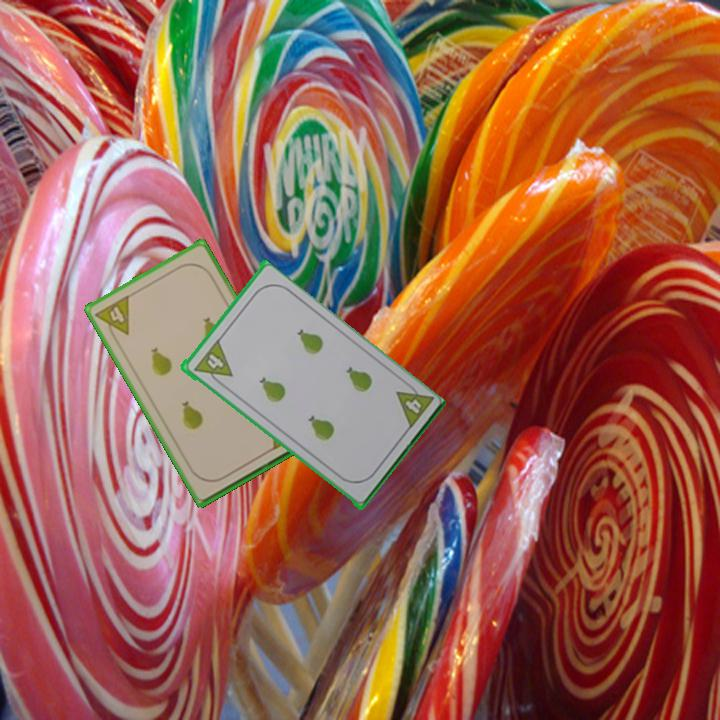4p: (392, 377, 436, 433), (190, 337, 235, 389), (91, 291, 132, 344)
